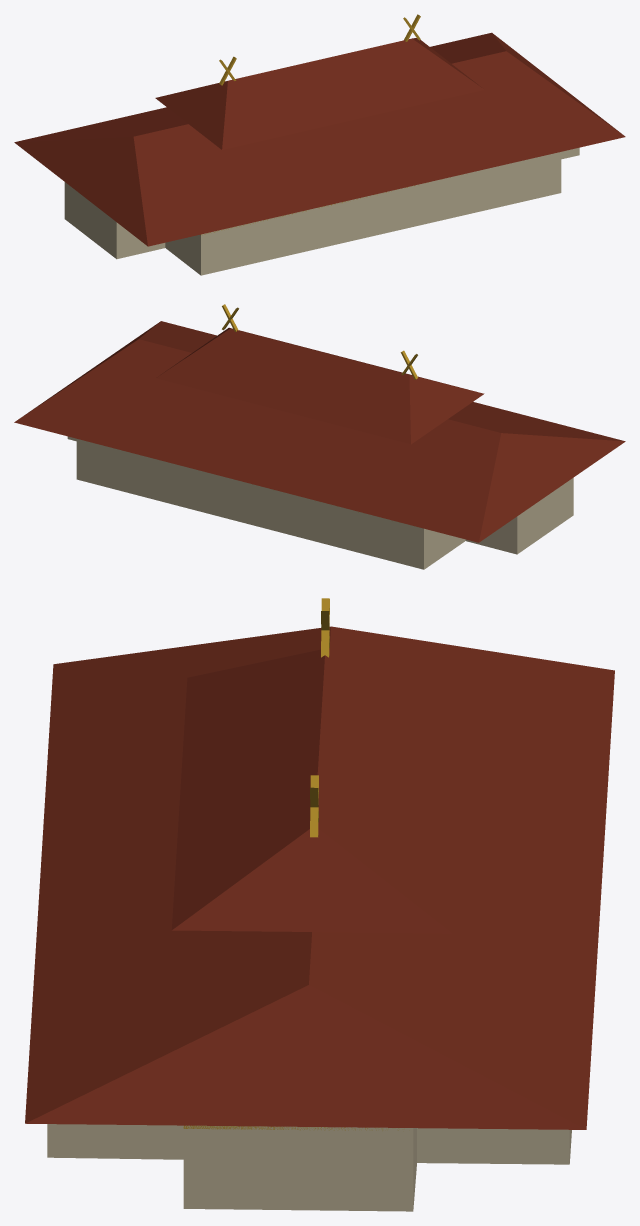
Rendered from anjung-seni-idrus-tintin-lod1.glb.
3 views of the same model, one above another, from view 1: azimuth 30°, elevation 25°; view 2: azimuth 150°, elevation 25°; view 3: azimuth 270°, elevation 25° (orthographic). The views are drawn at different scales.
Parts seen in each view (by area): view 1: anjung-seni-idrus-tintin_LOD1; view 2: anjung-seni-idrus-tintin_LOD1; view 3: anjung-seni-idrus-tintin_LOD1.
Part boxes in pixels (x1=…): anjung-seni-idrus-tintin_LOD1: x1=14, y1=14, x2=625, y2=275; anjung-seni-idrus-tintin_LOD1: x1=14, y1=304, x2=625, y2=569; anjung-seni-idrus-tintin_LOD1: x1=25, y1=598, x2=614, y2=1211.
Bounding box in the file's own units: 87.36 × 25.84 × 46.77.
